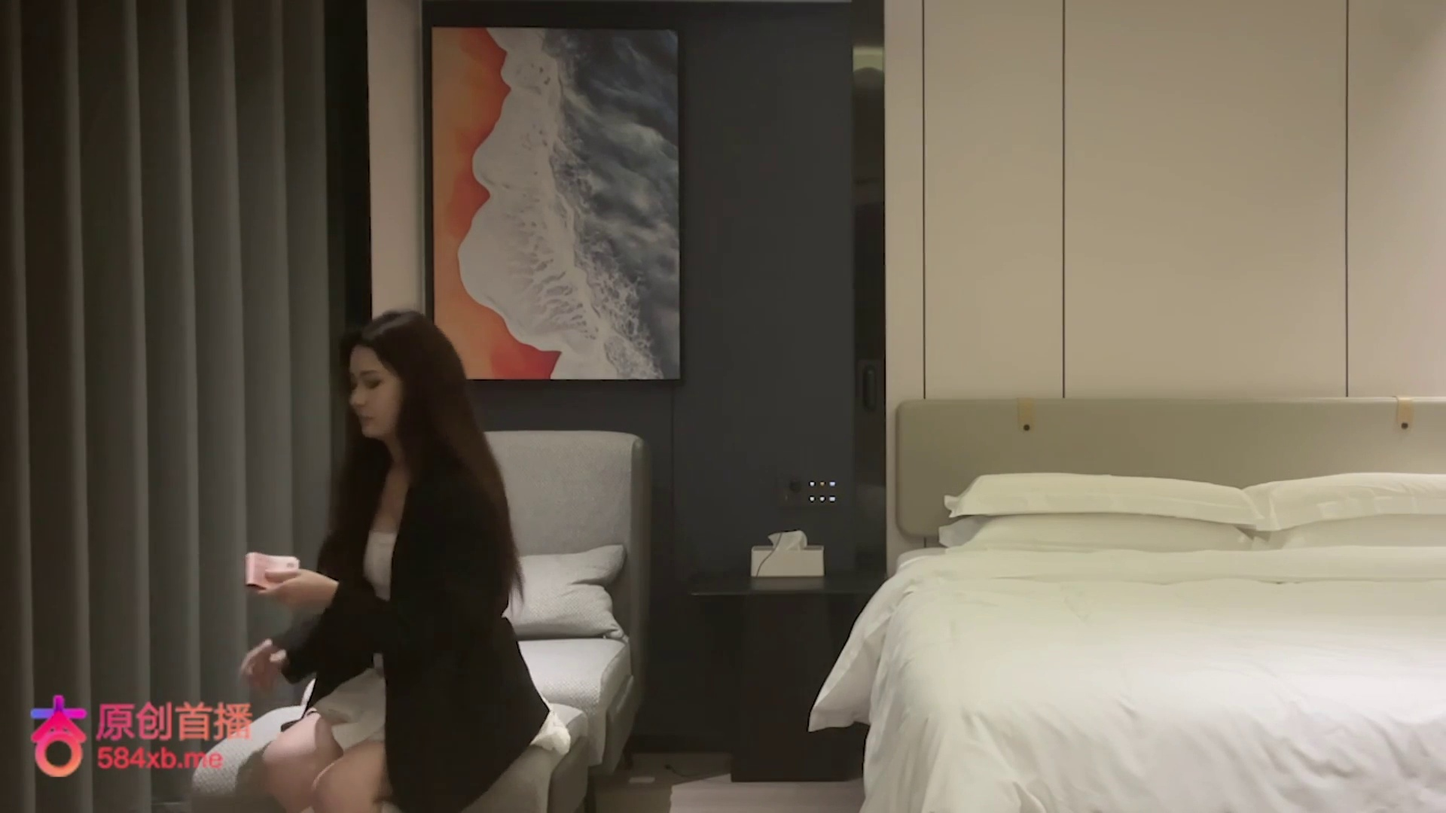sit: (238, 308, 566, 811)
